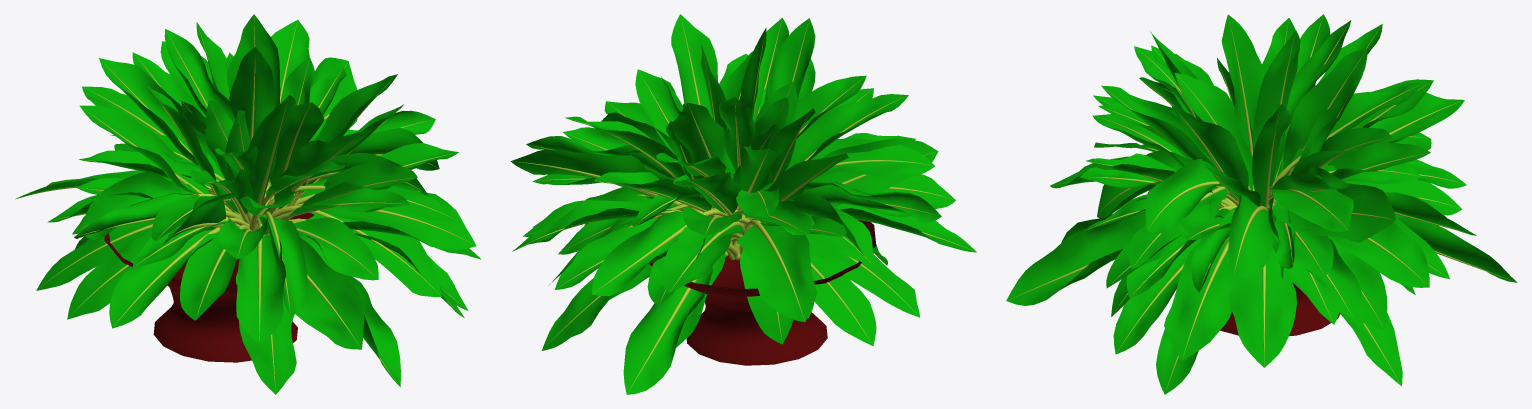
Rendered from Tree2.fbx.
The picture shows the model from 3 angles, left to right: view 1: azimuth 30°, elevation 25°; view 2: azimuth 150°, elevation 25°; view 3: azimuth 270°, elevation 25°; orthographic projection. The views are drawn at different scales.
Parts seen in each view (by area): view 1: house_plant:null_2, house_plant:null_, house_plant:null_1; view 2: house_plant:null_2, house_plant:null_1, house_plant:null_; view 3: house_plant:null_2, house_plant:null_, house_plant:null_1.
Part boxes in pixels (x1=…): house_plant:null_2: x1=15, y1=14, x2=480, y2=394; house_plant:null_: x1=21, y1=16, x2=472, y2=390; house_plant:null_1: x1=104, y1=192, x2=314, y2=362; house_plant:null_2: x1=510, y1=14, x2=976, y2=394; house_plant:null_1: x1=649, y1=210, x2=876, y2=365; house_plant:null_: x1=512, y1=19, x2=972, y2=393; house_plant:null_2: x1=1006, y1=14, x2=1517, y2=394; house_plant:null_: x1=1010, y1=18, x2=1513, y2=389; house_plant:null_1: x1=1147, y1=190, x2=1339, y2=336.
Bounding box in the file's own units: 639 × 459 × 704.
